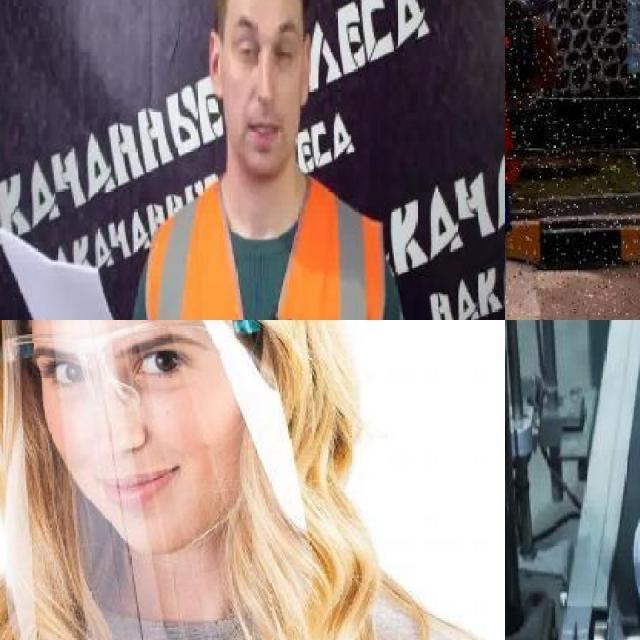apron: (508, 0, 551, 31)
